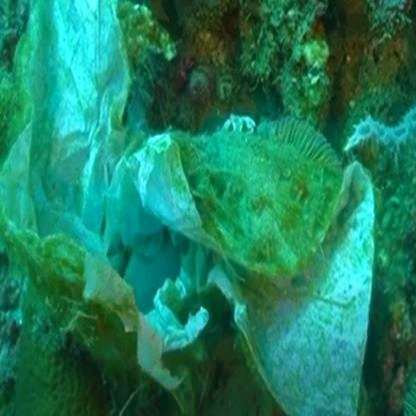plastic: (69, 86, 360, 386)
